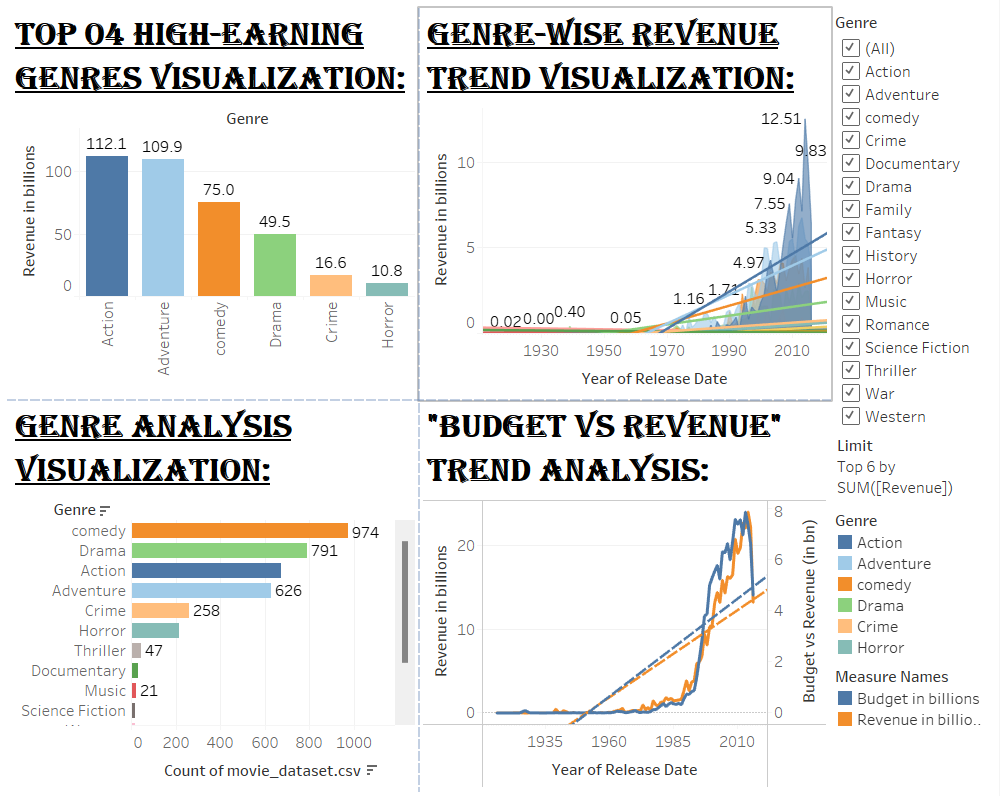

The dashboard page shown, as its layout file describes it:
{"tool":"tableau","page":{"name":"Dashboard 1","canvas":[1000,800],"ordinal":0},"visuals":[{"type":"worksheet","title":"Sheet 4","mark":"Automatic","rows":["Calculation_319192662450245632"],"cols":["Horror"],"box":[8,8,412,392]},{"type":"worksheet","title":"Sheet 3","mark":"Area","rows":["Calculation_319192662450245632"],"cols":["release_date"],"box":[420,8,412,392]},{"type":"filter","title":"Sheet 4","param":"[federated.1rujdhf1feum6v11z418r0zanbl0].[none:Horror:nk]","box":[832,8,160,498]},{"type":"worksheet","title":"Sheet 1","mark":"Automatic","rows":["Horror"],"cols":["movie_dataset.csv_AFA9F789239E4ADFB62F0606D6D8566E"],"box":[8,400,412,392]},{"type":"worksheet","title":"Sheet 2","mark":"Automatic","rows":["Calculation_319192662450245632","Calculation_319192662450245632 1"],"cols":["release_date"],"box":[420,400,412,392]},{"type":"legend","title":"Sheet 4","param":"[federated.1rujdhf1feum6v11z418r0zanbl0].[none:Horror:nk]","box":[832,506,160,156]},{"type":"legend","title":"Sheet 2","param":"[federated.1rujdhf1feum6v11z418r0zanbl0].[:Measure Names]","box":[832,662,160,72]}]}

Visuals, with their boxes in screenshot pixels (x1, y1, x2, y2), scaled from the page's 1000x800 canvas onto the 1000x796 screenshot:
"Sheet 4" worksheet: x1=8, y1=8, x2=420, y2=398
"Sheet 3" worksheet (Area marks): x1=420, y1=8, x2=832, y2=398
"Sheet 4" filter: x1=832, y1=8, x2=992, y2=503
"Sheet 1" worksheet: x1=8, y1=398, x2=420, y2=788
"Sheet 2" worksheet: x1=420, y1=398, x2=832, y2=788
"Sheet 4" legend: x1=832, y1=503, x2=992, y2=659
"Sheet 2" legend: x1=832, y1=659, x2=992, y2=730
